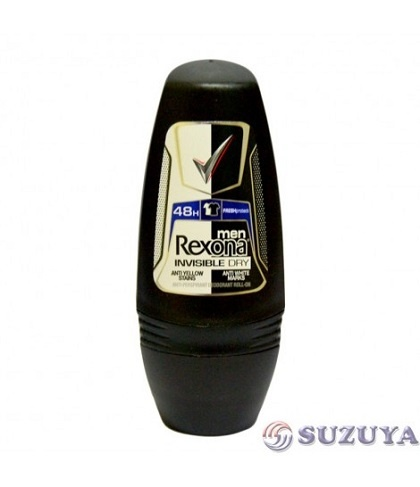rexona: (135, 56, 284, 434)
